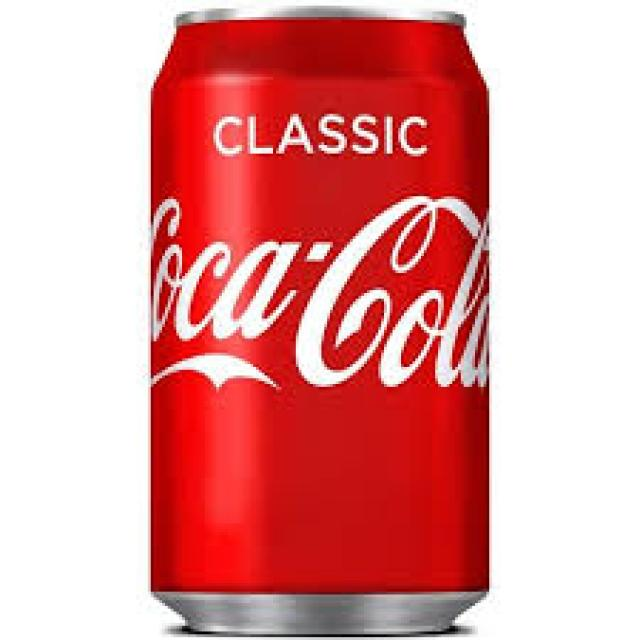aluminum_can: (154, 14, 492, 636)
